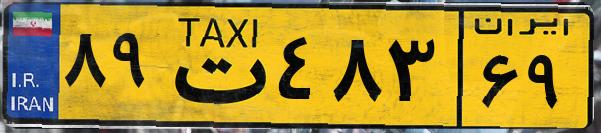3: (385, 28, 445, 110)
4: (270, 28, 330, 110)
6: (475, 38, 525, 113)
8: (330, 28, 385, 110), (57, 26, 110, 100)
9: (525, 38, 570, 115), (110, 28, 158, 98)
ت: (158, 12, 270, 120)
